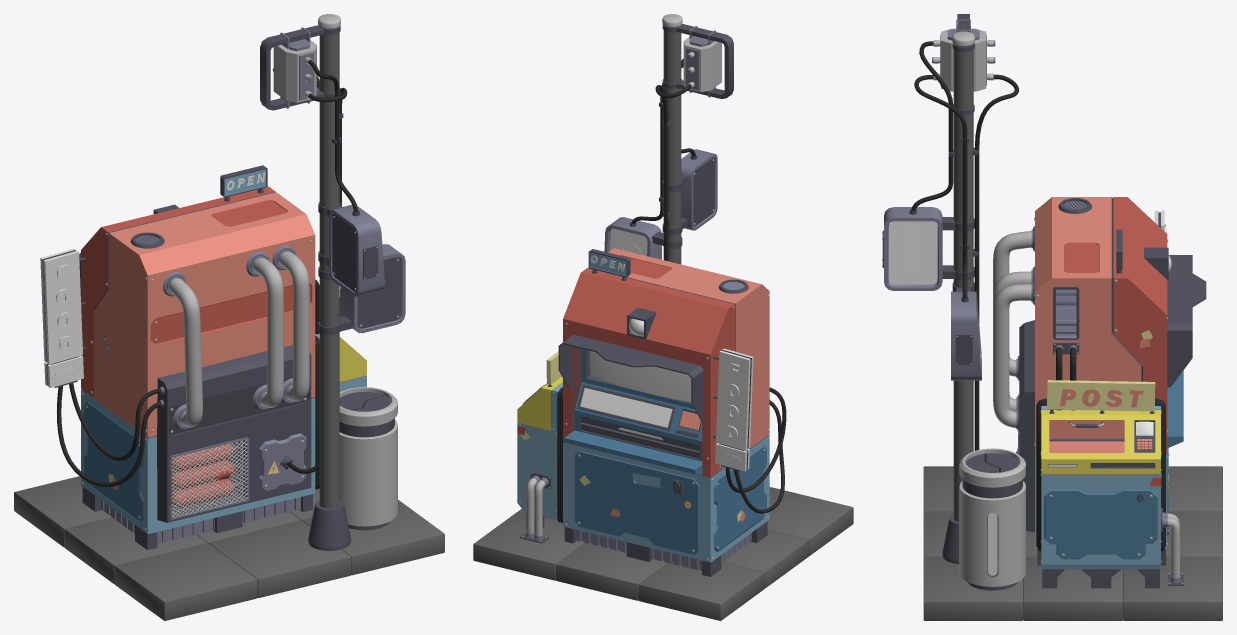
File: DP kyrs.fbx
3 views of the same model, side by side, from view 1: azimuth 30°, elevation 25°; view 2: azimuth 150°, elevation 25°; view 3: azimuth 270°, elevation 25° (orthographic). The views are drawn at different scales.
Parts seen in each view (by area): view 1: Cube.050, Plane.007, Cube.017, Cylinder.005, Cylinder, Plane.006, Cube, Cube.013, Cube.048, Cube.026, Cube.010, Plane.009 (+19 smaller); view 2: Plane.007, Cube, Cube.006, Cube.003, Cube.050, Cube.048, Cylinder.005, Cube.013, Plane, Cube.010, Cube.047, Cube.032 (+17 smaller); view 3: Plane.007, Cube.050, Cylinder, Cube, Cube.012, Cube.004, Cylinder.005, Cube.047, Cube.026, Plane, Plane.006, Cube.017 (+20 smaller).
Part boxes in pixels (box(x1,y1,x2,y2)): Cube.050: box(94, 192, 315, 437); Plane.007: box(14, 476, 444, 620); Cube.017: box(156, 345, 311, 522); Cylinder.005: box(319, 27, 339, 508); Cylinder: box(339, 387, 397, 530); Plane.006: box(253, 251, 309, 407); Cube: box(81, 186, 275, 397); Cube.013: box(84, 400, 144, 522); Cube.048: box(81, 389, 315, 533); Cube.026: box(329, 205, 384, 296); Cube.010: box(40, 248, 82, 364); Plane.009: box(172, 439, 247, 517); Plane.007: box(473, 487, 853, 620); Cube: box(563, 268, 734, 476); Cube.006: box(574, 451, 698, 554); Cube.003: box(574, 349, 702, 461); Cube.050: box(588, 248, 769, 468); Cube.048: box(563, 435, 769, 562); Cylinder.005: box(663, 25, 681, 264); Cube.013: box(713, 444, 766, 552); Plane: box(558, 334, 703, 421); Cube.010: box(716, 348, 753, 450); Cube.047: box(517, 423, 557, 520); Cube.032: box(589, 351, 691, 401); Plane.007: box(923, 466, 1222, 620); Cube.050: box(1035, 197, 1142, 452); Cylinder: box(959, 448, 1025, 590); Cube: box(1112, 197, 1167, 452); Cube.012: box(1044, 489, 1157, 559); Cube.004: box(1041, 410, 1160, 474); Cylinder.005: box(953, 44, 973, 521); Cube.047: box(1041, 474, 1160, 569); Cube.026: box(884, 207, 942, 290); Plane: box(1167, 255, 1206, 387); Plane.006: box(993, 271, 1031, 427); Cube.017: box(1019, 320, 1034, 532).
Bounding box in the file's own units: 575 × 1054 × 603.
